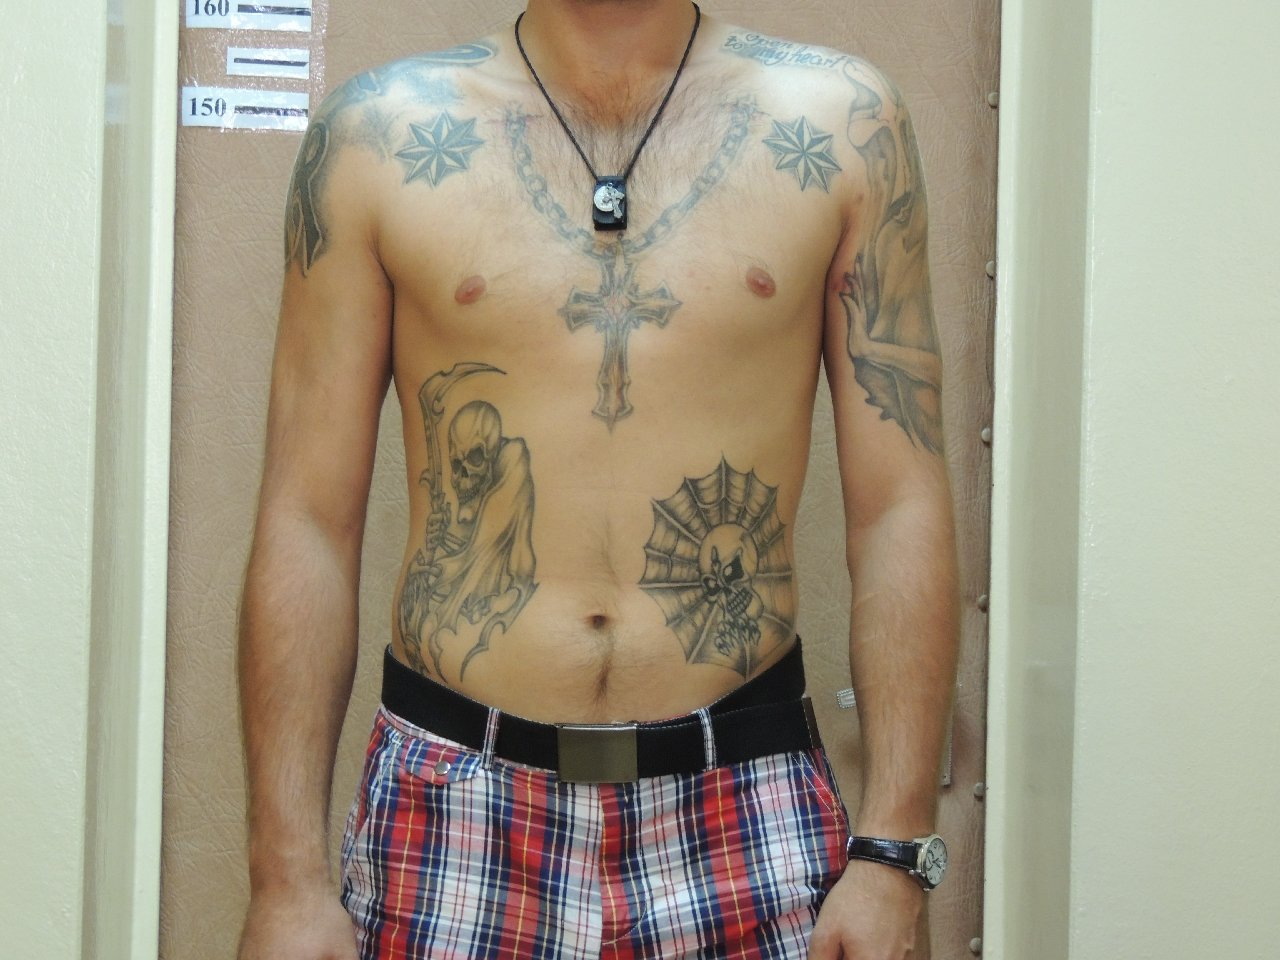tatu4_zvezda: (392, 104, 492, 206), (760, 106, 851, 196)
tatu9_krest: (551, 230, 687, 434)
